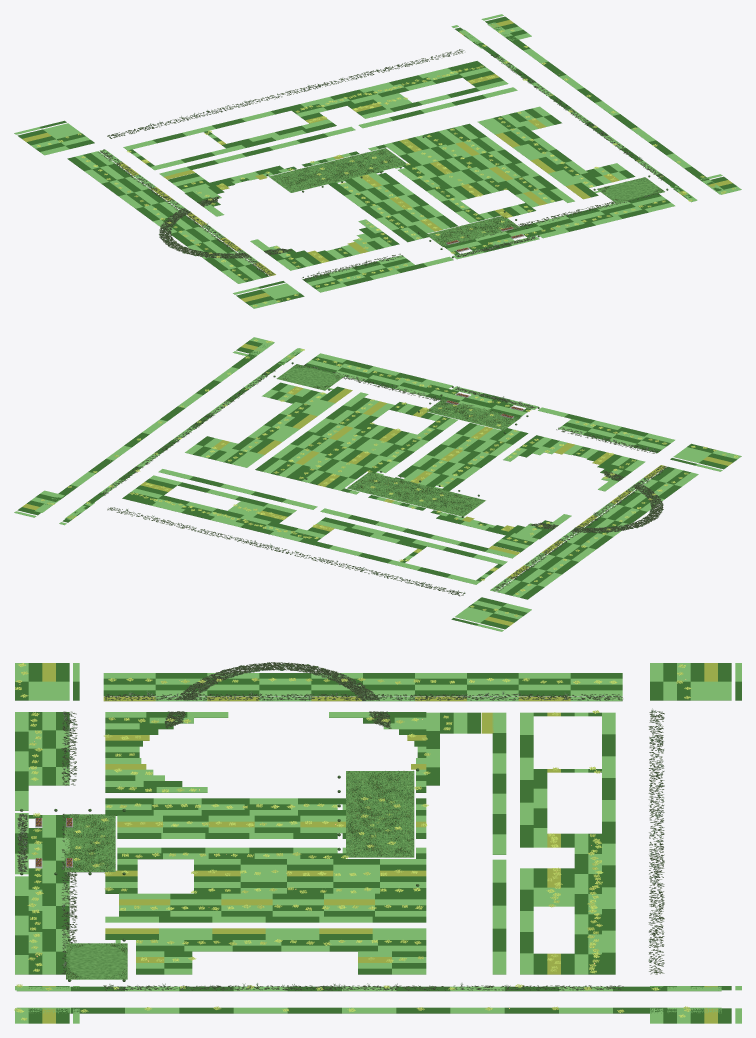
File: ov-lawn.glb
3 views of the same model, one above another, from view 1: azimuth 30°, elevation 25°; view 2: azimuth 150°, elevation 25°; view 3: azimuth 270°, elevation 25° (orthographic). The views are drawn at different scales.
Visible parts, largest first — view 1: Lawn_TeachSouth, Lawn_GateNorth, Lawn_Pond; view 2: Lawn_TeachSouth, Lawn_GateNorth, Lawn_Pond; view 3: Lawn_TeachSouth, Lawn_GateNorth, Lawn_Pond, Lawn_TeachSouth_Grass_Green, Lawn_TeachSouth_Grass_Dark, Lawn_TeachSouth_Grass_Light.
Boxes of the visible parts, bbox=[...] form: Lawn_TeachSouth: bbox=[269, 148, 406, 192]; Lawn_GateNorth: bbox=[426, 216, 520, 246]; Lawn_Pond: bbox=[597, 177, 664, 203]; Lawn_TeachSouth: bbox=[347, 472, 485, 516]; Lawn_GateNorth: bbox=[427, 399, 520, 430]; Lawn_Pond: bbox=[276, 364, 344, 390]; Lawn_TeachSouth: bbox=[346, 771, 414, 857]; Lawn_GateNorth: bbox=[64, 814, 115, 872]; Lawn_Pond: bbox=[66, 943, 127, 979]; Lawn_TeachSouth_Grass_Green: bbox=[346, 771, 413, 856]; Lawn_TeachSouth_Grass_Dark: bbox=[346, 771, 413, 856]; Lawn_TeachSouth_Grass_Light: bbox=[346, 771, 413, 856].
Bounding box in the file's own units: 250 × 1.97 × 213.
25 materials, 22 textured.
